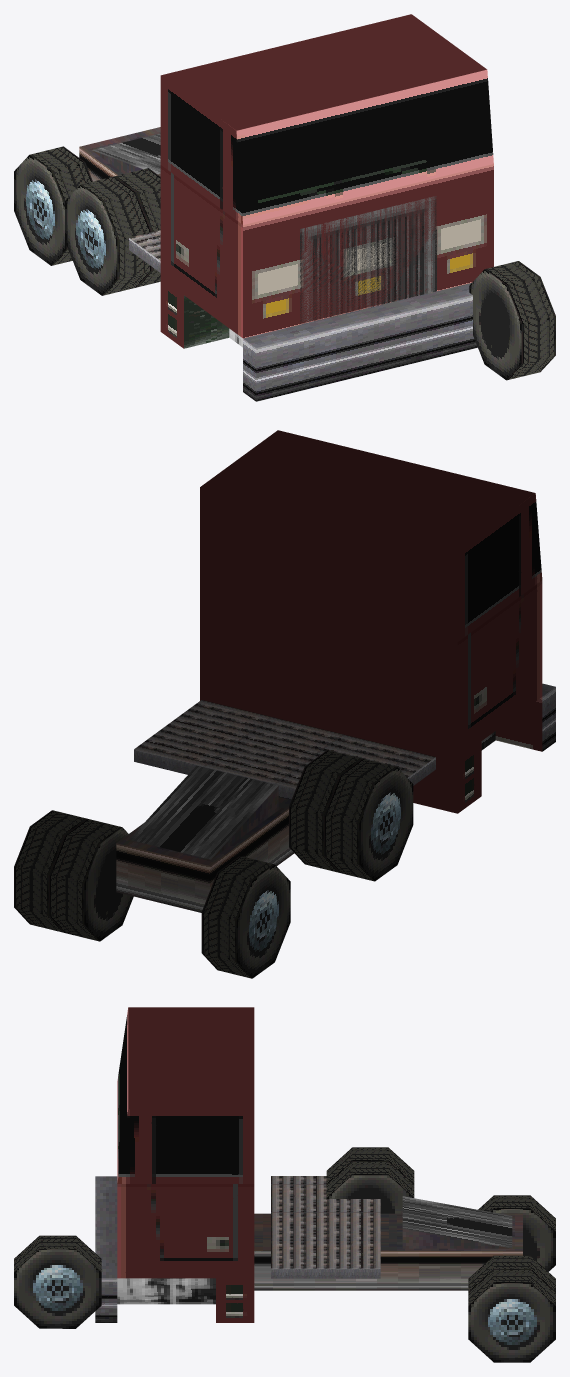
File: ParticZ.obj
3 renders of one model, top to bottom at view 1: azimuth 30°, elevation 25°; view 2: azimuth 150°, elevation 25°; view 3: azimuth 270°, elevation 25°, orthographic. The views are drawn at different scales.
Bounding box in the file's own units: 2237 × 2592 × 5024.
19 materials, 19 textured.
